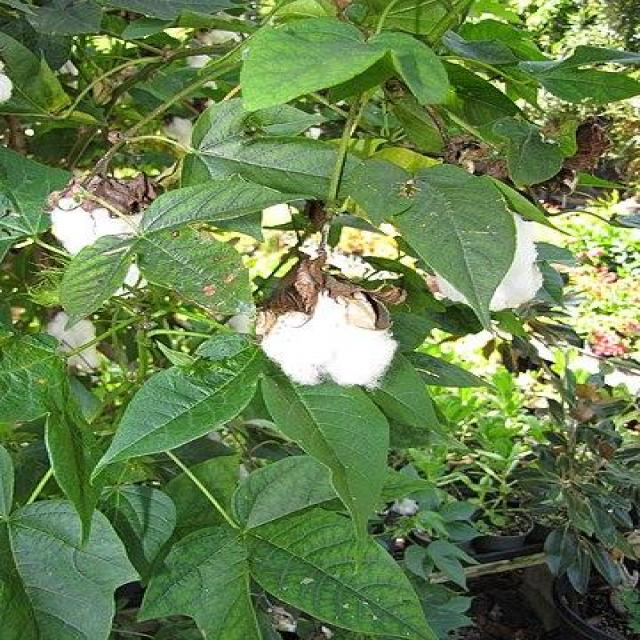Late_blight: (256, 257, 401, 386), (50, 173, 160, 254)
